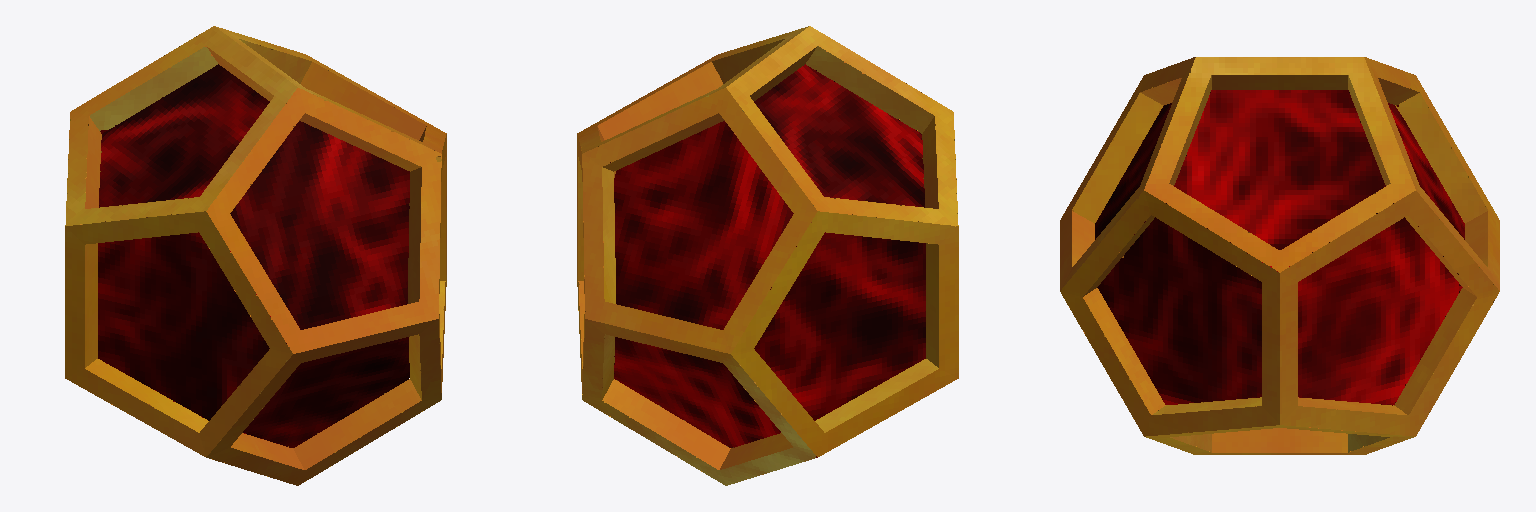
3 renders of one model, left to right at view 1: azimuth 30°, elevation 25°; view 2: azimuth 150°, elevation 25°; view 3: azimuth 270°, elevation 25°, orthographic.
Parts seen in each view (by area): view 1: dodecahedron5; view 2: dodecahedron5; view 3: dodecahedron5.
Part boxes in pixels (bbox=[...]): dodecahedron5: bbox=[65, 26, 446, 485]; dodecahedron5: bbox=[577, 26, 958, 485]; dodecahedron5: bbox=[1060, 57, 1499, 454].
Size of the model in its own units: 2.62 by 2.62 by 2.62.
Materials: 1 (1 with a texture image).